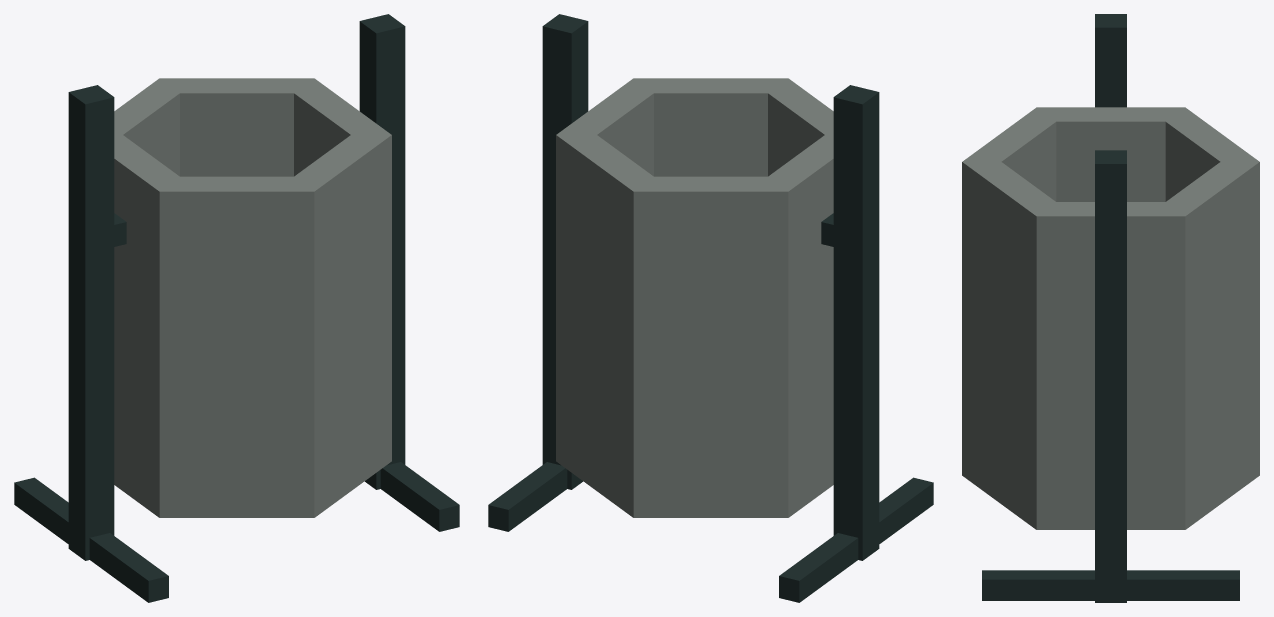
The model's file is TrashBin.fbx.
The picture shows the model from 3 angles, left to right: view 1: azimuth 30°, elevation 25°; view 2: azimuth 150°, elevation 25°; view 3: azimuth 270°, elevation 25°; orthographic projection. The views are drawn at different scales.
Parts seen in each view (by area): view 1: TrashBin; view 2: TrashBin; view 3: TrashBin.
Part boxes in pixels (x1,y1,x2,y2): TrashBin: (14, 14, 459, 602); TrashBin: (488, 14, 933, 602); TrashBin: (962, 14, 1259, 602).
Bounding box in the file's own units: 36.04 × 49.14 × 30.21.
